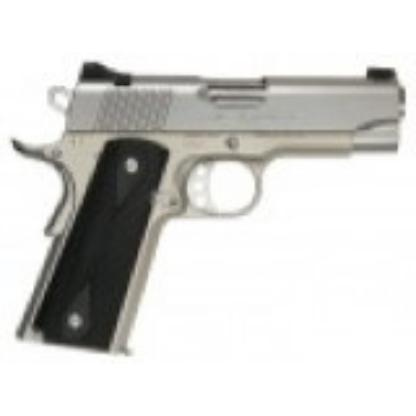gun: (11, 60, 409, 352)
